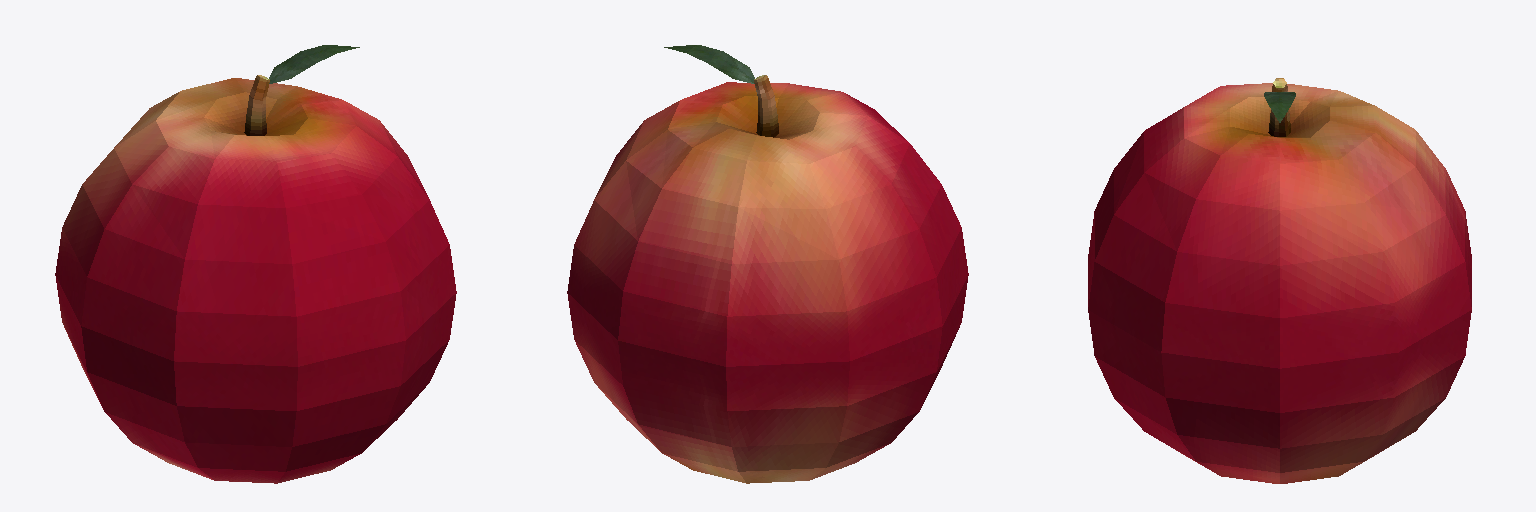
The picture shows the model from 3 angles: view 1: azimuth 30°, elevation 25°; view 2: azimuth 150°, elevation 25°; view 3: azimuth 270°, elevation 25°; orthographic projection.
Visible parts, largest first — view 1: skin; view 2: skin; view 3: skin.
Part boxes in pixels (x1,y1,x2,y2): skin: (55, 45, 456, 483); skin: (567, 45, 968, 483); skin: (1088, 78, 1471, 483).
Bounding box in the file's own units: 2 × 2.07 × 1.9.
Materials: 1 (1 with a texture image).